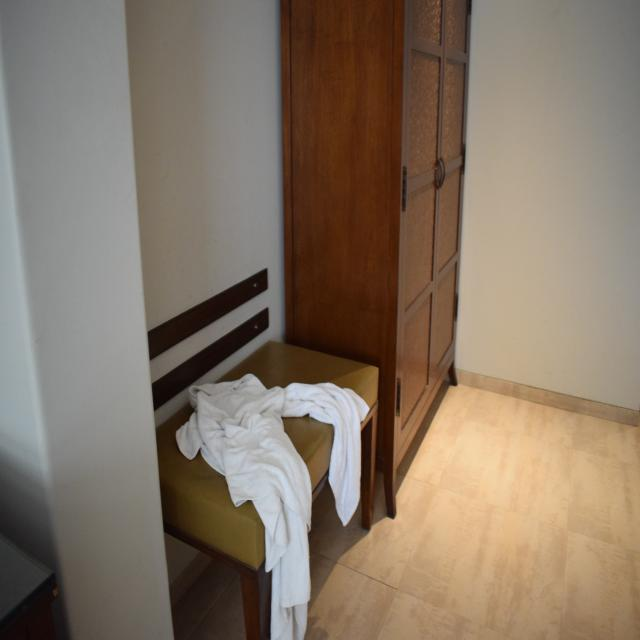mess: (160, 309, 365, 590)
